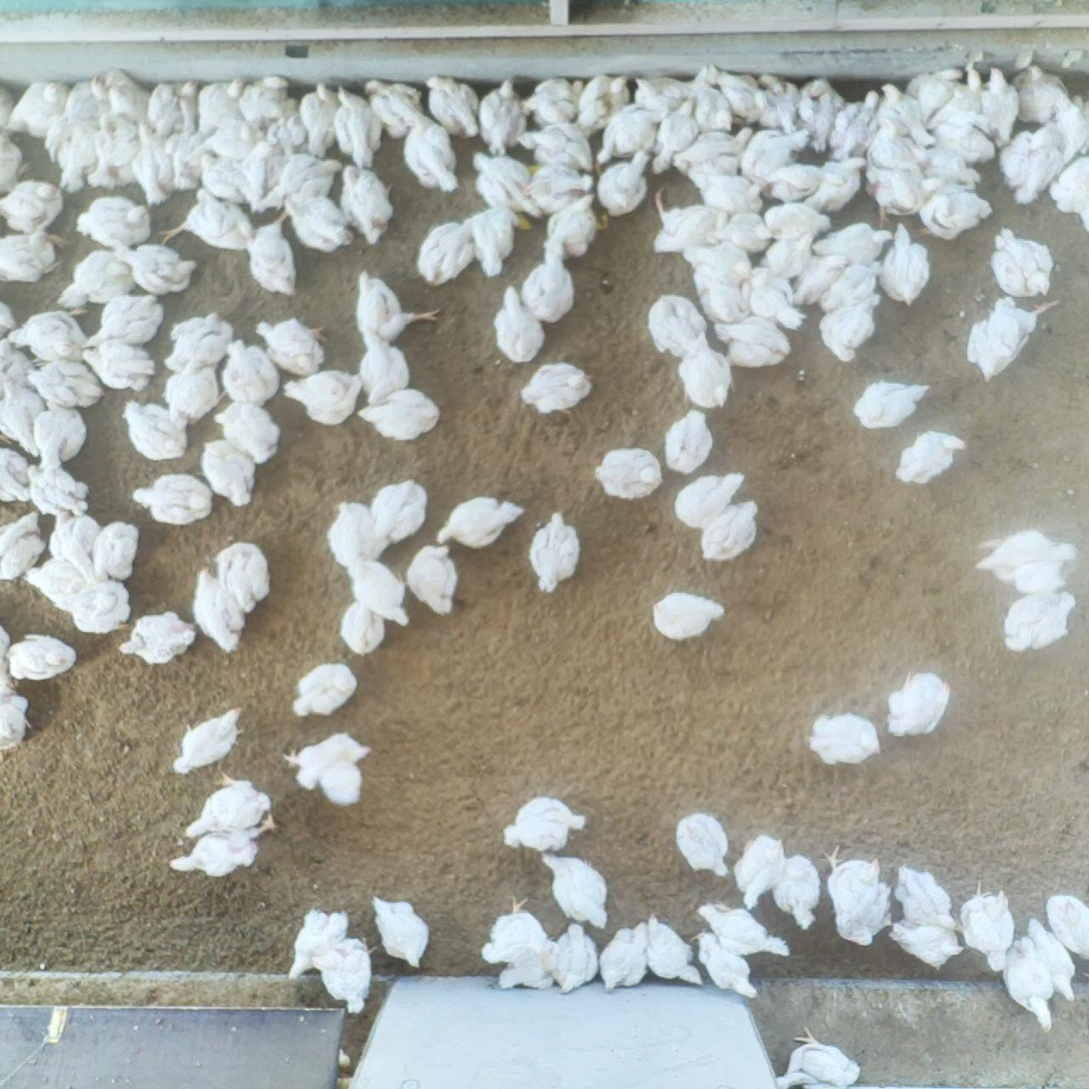chicken: (957, 297, 1047, 390), (821, 847, 903, 949), (173, 778, 285, 845), (975, 528, 1077, 601), (984, 225, 1063, 318), (57, 240, 145, 317), (160, 305, 245, 382), (345, 265, 416, 357), (7, 303, 94, 378), (169, 709, 262, 777), (281, 738, 369, 808), (881, 664, 964, 738), (537, 855, 620, 928), (401, 538, 476, 618), (334, 160, 397, 255), (77, 189, 163, 258), (995, 128, 1069, 208), (172, 190, 259, 258), (209, 540, 285, 617), (524, 509, 588, 599), (190, 568, 250, 664), (209, 398, 281, 478), (319, 493, 390, 574), (485, 282, 548, 373), (210, 336, 282, 415), (1002, 941, 1059, 1039), (462, 201, 524, 290), (310, 938, 391, 1006), (565, 67, 647, 134), (881, 229, 940, 322), (434, 489, 522, 551), (208, 114, 270, 202), (998, 587, 1077, 656), (654, 193, 722, 272), (767, 1032, 862, 1088), (847, 377, 930, 441), (659, 411, 732, 483), (339, 553, 412, 625), (83, 331, 157, 402), (239, 222, 310, 296), (169, 830, 272, 881), (408, 220, 478, 295), (646, 290, 709, 373), (369, 473, 428, 561), (362, 892, 436, 962), (94, 293, 175, 356), (26, 460, 101, 527), (250, 311, 326, 377), (109, 240, 194, 299), (890, 425, 972, 486), (117, 392, 188, 462), (676, 469, 745, 541), (590, 141, 658, 214), (591, 443, 671, 505), (124, 470, 214, 525), (522, 237, 577, 327), (1020, 921, 1081, 1002), (424, 69, 489, 145), (350, 339, 420, 409), (915, 181, 995, 242), (675, 62, 739, 138), (199, 436, 265, 509), (469, 147, 532, 223), (676, 238, 761, 294), (727, 829, 788, 906), (400, 118, 463, 192), (505, 800, 588, 856), (676, 334, 732, 417), (57, 578, 140, 634), (282, 373, 362, 431), (710, 314, 788, 373), (285, 660, 358, 723), (43, 505, 106, 578), (281, 191, 354, 254), (517, 362, 600, 417), (14, 75, 74, 151), (698, 498, 766, 565), (161, 358, 227, 427), (646, 590, 727, 646), (767, 203, 823, 284), (803, 707, 881, 765), (894, 868, 961, 935), (119, 614, 202, 668), (479, 902, 549, 966), (889, 914, 969, 970), (633, 919, 702, 983), (358, 388, 446, 438), (87, 510, 147, 582), (28, 406, 100, 466), (7, 626, 78, 686), (334, 83, 385, 166), (145, 83, 202, 157), (692, 268, 762, 328), (864, 114, 932, 175), (241, 81, 297, 155), (964, 69, 1027, 134), (971, 888, 1019, 972), (525, 158, 590, 220), (767, 851, 819, 928), (710, 915, 795, 962), (539, 190, 595, 261), (1008, 62, 1073, 123), (3, 176, 69, 236), (686, 162, 759, 215), (530, 119, 590, 183), (289, 909, 348, 973), (482, 83, 533, 157), (790, 256, 852, 315), (79, 80, 142, 138), (820, 301, 876, 366), (917, 65, 973, 130), (795, 76, 847, 146), (297, 88, 346, 162), (1, 506, 44, 590), (675, 816, 734, 877), (816, 262, 885, 314), (741, 129, 807, 183), (33, 355, 94, 413), (740, 275, 803, 331), (1041, 888, 1089, 960), (101, 116, 159, 175), (281, 154, 339, 213), (368, 85, 436, 135), (813, 222, 892, 265), (332, 594, 385, 658), (4, 381, 52, 451), (696, 932, 757, 987), (930, 122, 995, 173), (520, 77, 579, 133), (60, 123, 110, 189), (2, 227, 57, 286), (493, 934, 554, 986), (25, 561, 88, 611), (807, 157, 864, 212), (592, 921, 650, 975), (602, 105, 656, 160), (713, 75, 772, 125), (544, 927, 596, 983), (653, 98, 698, 162), (1047, 105, 1089, 173), (1052, 154, 1089, 231), (670, 128, 738, 169), (883, 83, 931, 141), (830, 103, 881, 154), (2, 442, 39, 506), (759, 83, 799, 142), (870, 165, 919, 213), (204, 83, 238, 146), (767, 162, 818, 203)
